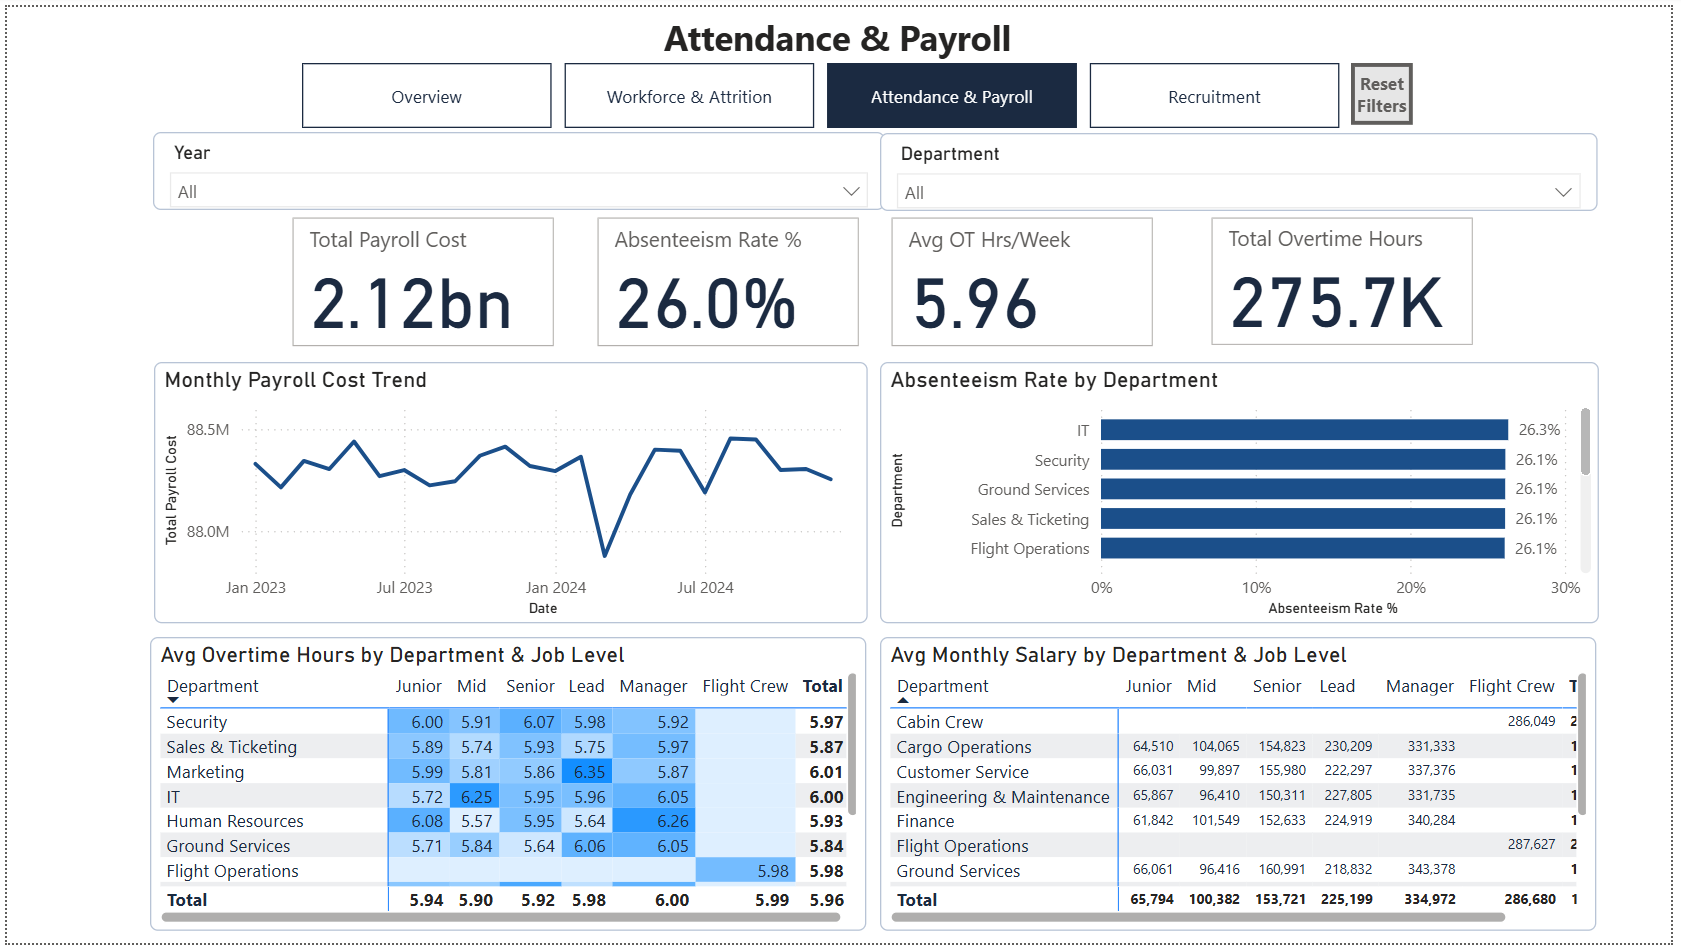

The dashboard page shown, as its layout file describes it:
{"tool":"powerbi","page":{"name":"Attendance & Payroll","canvas":[1280,720],"ordinal":2},"visuals":[{"type":"textbox","box":[425.7,0,427.1,68.6],"z":0},{"type":"cardVisual","fields":{"Data":["_Measures.Total Payroll Cost"]},"box":[214.6,157,211.7,109.4],"z":1000},{"type":"cardVisual","fields":{"Data":["_Measures.Absenteeism Rate %"]},"box":[449.3,157,211.7,109.4],"z":2000},{"type":"cardVisual","fields":{"Data":["_Measures.Avg Overtime Hrs per Week"]},"box":[675.4,157,211.7,109.4],"z":3000},{"type":"cardVisual","fields":{"Data":["_Measures.Total Overtime Hours"]},"box":[921.4,157.1,211.4,108.6],"z":4000},{"type":"slicer","fields":{"Values":["Dim_Date.Year"]},"box":[112.3,96.5,563,60.5],"z":5000},{"type":"slicer","fields":{"Values":["Dim_Employee.Department"]},"box":[671.7,96.7,551.7,60],"z":6000},{"type":"lineChart","title":"Monthly Payroll Cost Trend","fields":{"Category":["Dim_Date.Date"],"Y":["_Measures.Total Payroll Cost"]},"box":[112.9,272.9,548.6,201.4],"z":7000},{"type":"clusteredBarChart","title":"Absenteeism Rate by Department","fields":{"Category":["Dim_Employee.Department"],"Y":["_Measures.Absenteeism Rate %"]},"box":[671.4,272.9,552.9,201.4],"z":8000},{"type":"pivotTable","title":"Avg Overtime Hours by Department & Job Level","fields":{"Columns":["Dim_Employee.Job Level"],"Rows":["Dim_Employee.Department"],"Values":["_Measures.Avg Overtime Hrs per Week"]},"box":[110,484.3,551.4,225.7],"z":9000},{"type":"pivotTable","title":"Avg Monthly Salary by Department & Job Level","fields":{"Columns":["Dim_Employee.Job Level"],"Rows":["Dim_Employee.Department"],"Values":["_Measures.Avg Monthly Salary"]},"box":[671.4,484.3,551.4,225.7],"z":10000},{"type":"pageNavigator","box":[226.7,43.3,800,50],"z":11000},{"type":"actionButton","title":"Reset Filters","box":[1033.9,43.2,47.5,47.5],"z":12000}]}

Visuals, with their boxes in screenshot pixels (x1, y1, x2, y2), scaled from the page's 1280x720 canvas onto the 1681x951 screenshot:
textbox: crop(559, 0, 1120, 91)
cardVisual - _Measures.Total Payroll Cost: crop(282, 207, 560, 352)
cardVisual - _Measures.Absenteeism Rate %: crop(590, 207, 868, 352)
cardVisual - _Measures.Avg Overtime Hrs per Week: crop(887, 207, 1165, 352)
cardVisual - _Measures.Total Overtime Hours: crop(1210, 208, 1488, 351)
slicer - Dim_Date.Year: crop(147, 127, 887, 207)
slicer - Dim_Employee.Department: crop(882, 128, 1607, 207)
"Monthly Payroll Cost Trend" lineChart: crop(148, 360, 869, 626)
"Absenteeism Rate by Department" clusteredBarChart: crop(882, 360, 1608, 626)
"Avg Overtime Hours by Department & Job Level" pivotTable: crop(144, 640, 869, 938)
"Avg Monthly Salary by Department & Job Level" pivotTable: crop(882, 640, 1606, 938)
pageNavigator: crop(298, 57, 1348, 123)
"Reset Filters" actionButton: crop(1358, 57, 1420, 120)
